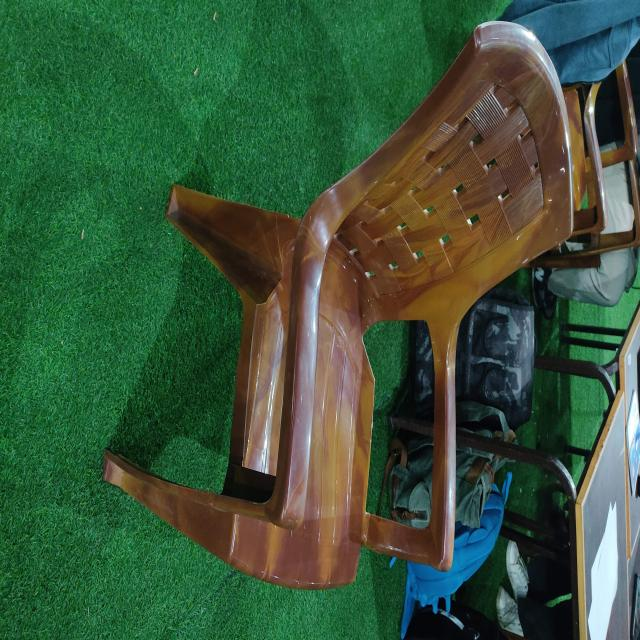Camer Stand: (102, 19, 610, 596)
